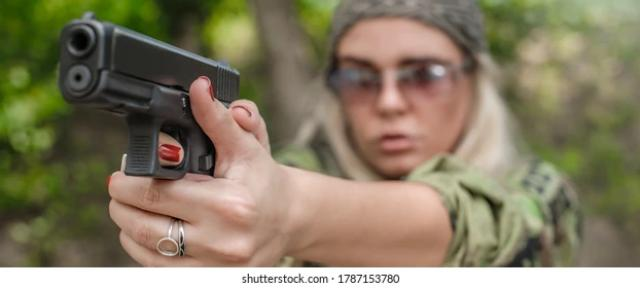other: (275, 2, 581, 258)
